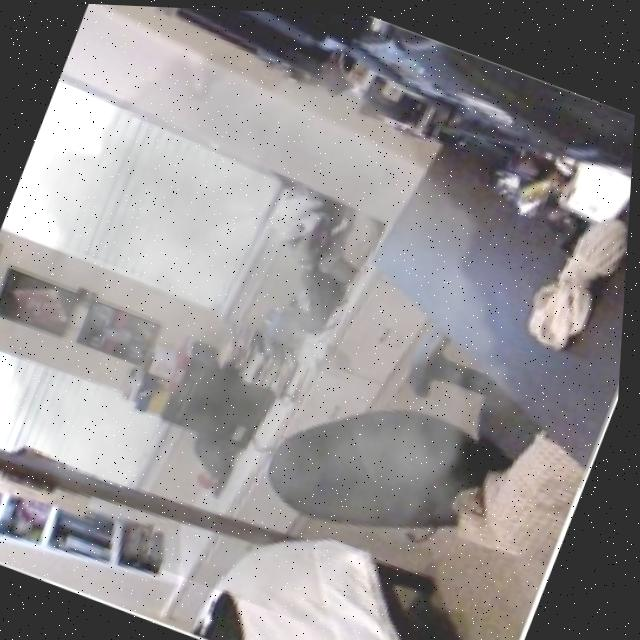Smoke: (0, 3, 629, 640)
